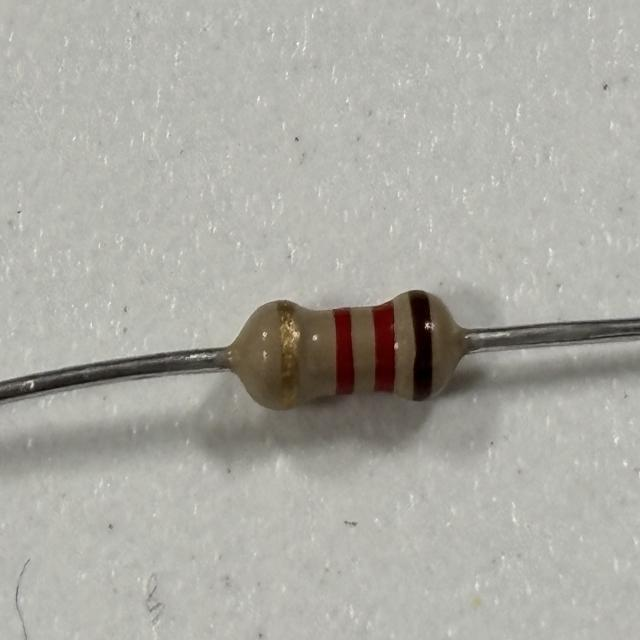resistor: (245, 287, 457, 413)
